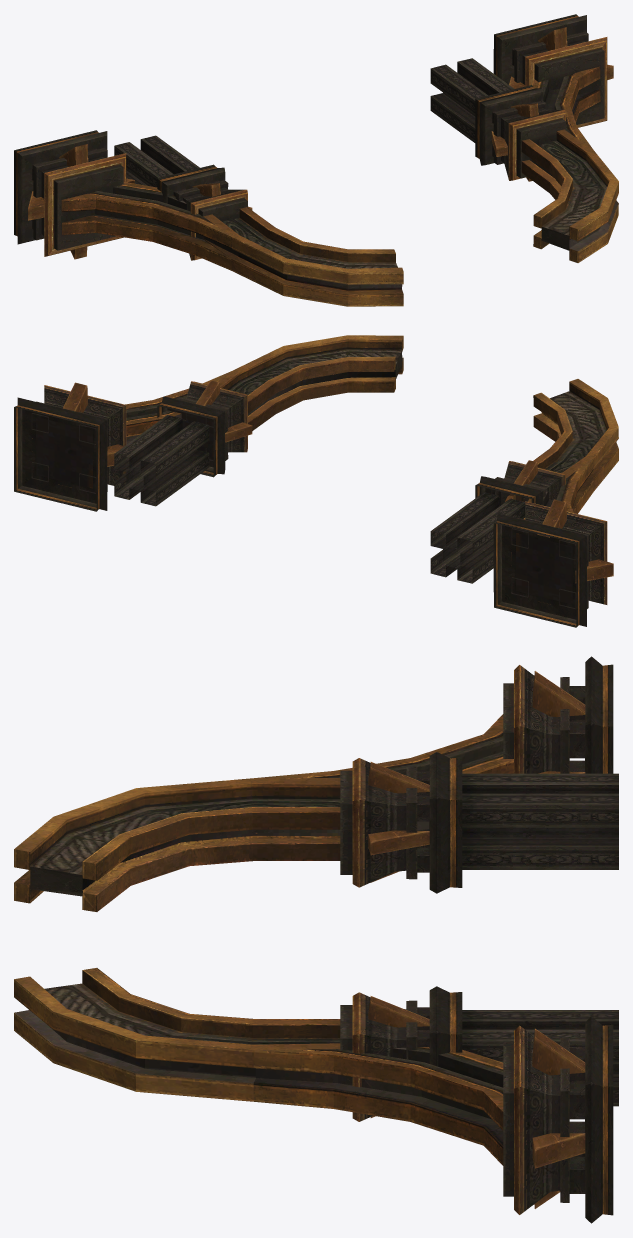
File: juqing_fuben_292_qiangmian_01a.obj
The picture shows the model from 3 angles, top to bottom: view 1: azimuth 30°, elevation 25°; view 2: azimuth 150°, elevation 25°; view 3: azimuth 270°, elevation 25°; orthographic projection. The views are drawn at different scales.
Parts seen in each view (by area): view 1: juqing_fuben_292_qiangmen_01a; view 2: juqing_fuben_292_qiangmen_01a; view 3: juqing_fuben_292_qiangmen_01a.
Part boxes in pixels (x1,y1,x2,y2): juqing_fuben_292_qiangmen_01a: (14,14,618,306); juqing_fuben_292_qiangmen_01a: (14,335,618,627); juqing_fuben_292_qiangmen_01a: (14,656,618,1223).
Bounding box in the file's own units: 7619 × 1398 × 4455.
2 materials, 2 textured.
